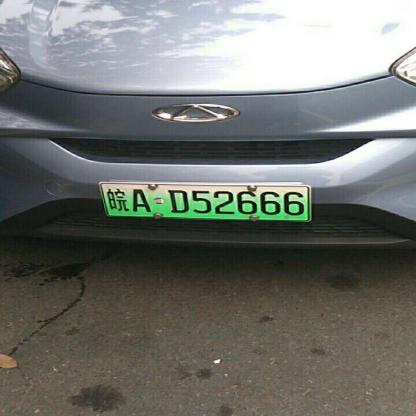lp: (99, 182, 310, 221)
